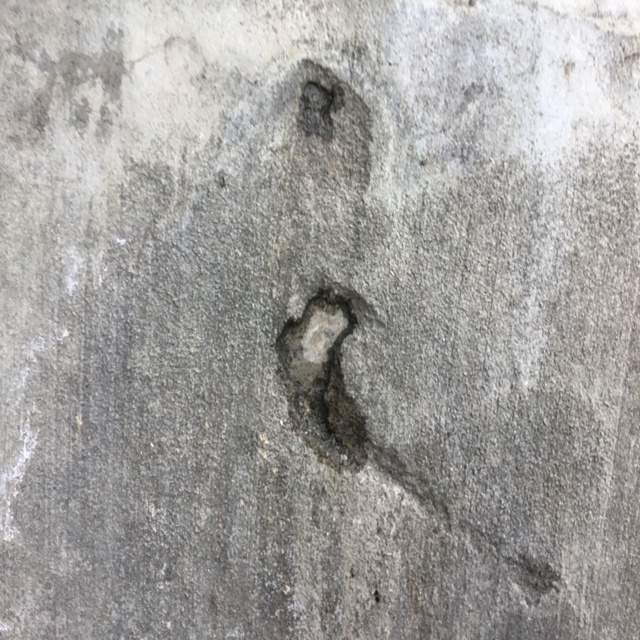spall: (213, 54, 385, 503), (366, 436, 571, 611)
